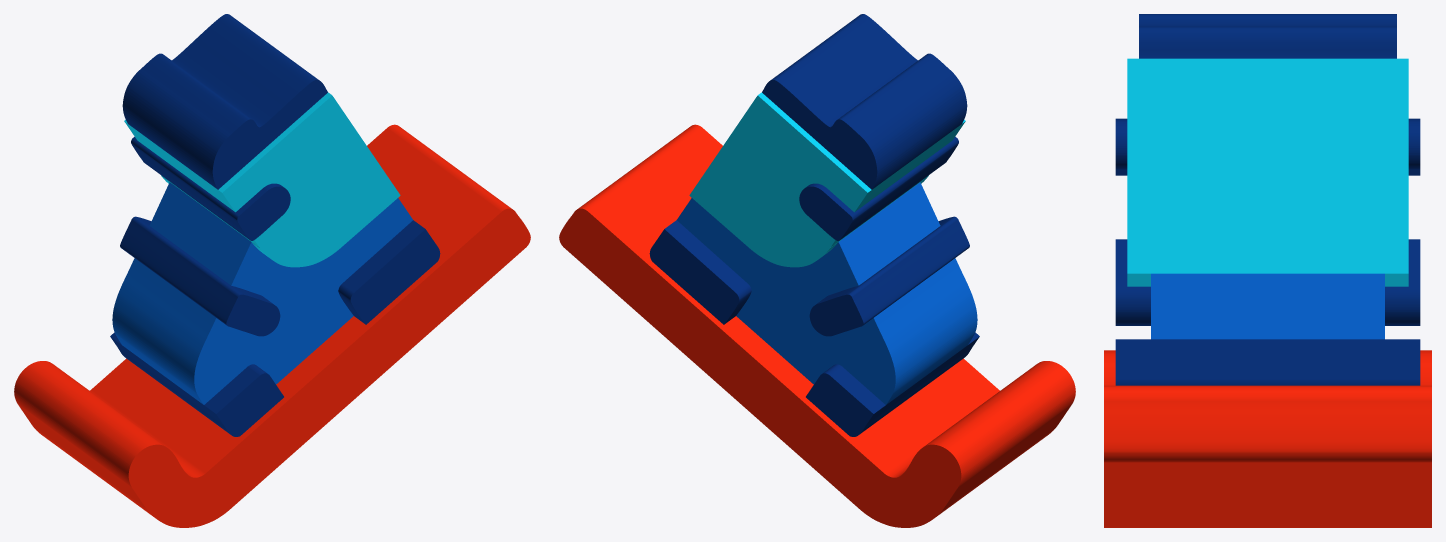
3 renders of one model, left to right at view 1: azimuth 30°, elevation 25°; view 2: azimuth 150°, elevation 25°; view 3: azimuth 270°, elevation 25°, orthographic. The views are drawn at different scales.
Parts seen in each view (by area): view 1: U+1F3BF_layer04_obj00, U+1F3BF_layer00_obj00, U+1F3BF_layer01_obj00, U+1F3BF_layer03_obj00, U+1F3BF_layer02_obj00; view 2: U+1F3BF_layer04_obj00, U+1F3BF_layer00_obj00, U+1F3BF_layer01_obj00, U+1F3BF_layer03_obj00, U+1F3BF_layer02_obj00; view 3: U+1F3BF_layer02_obj00, U+1F3BF_layer04_obj00, U+1F3BF_layer03_obj00, U+1F3BF_layer00_obj00, U+1F3BF_layer01_obj00.
Part boxes in pixels (x1,y1,x2,y2): U+1F3BF_layer04_obj00: (14, 124, 530, 527); U+1F3BF_layer00_obj00: (112, 182, 412, 404); U+1F3BF_layer01_obj00: (122, 14, 327, 189); U+1F3BF_layer03_obj00: (110, 136, 440, 436); U+1F3BF_layer02_obj00: (124, 92, 400, 267); U+1F3BF_layer04_obj00: (559, 124, 1075, 527); U+1F3BF_layer00_obj00: (677, 182, 977, 404); U+1F3BF_layer01_obj00: (762, 14, 967, 189); U+1F3BF_layer03_obj00: (649, 136, 979, 436); U+1F3BF_layer02_obj00: (689, 92, 965, 267); U+1F3BF_layer02_obj00: (1127, 58, 1408, 286); U+1F3BF_layer04_obj00: (1104, 350, 1431, 527); U+1F3BF_layer03_obj00: (1115, 118, 1420, 385); U+1F3BF_layer00_obj00: (1151, 273, 1384, 339); U+1F3BF_layer01_obj00: (1139, 14, 1396, 58).
Bounding box in the file's own units: 0.5678 × 0.5477 × 0.28.
